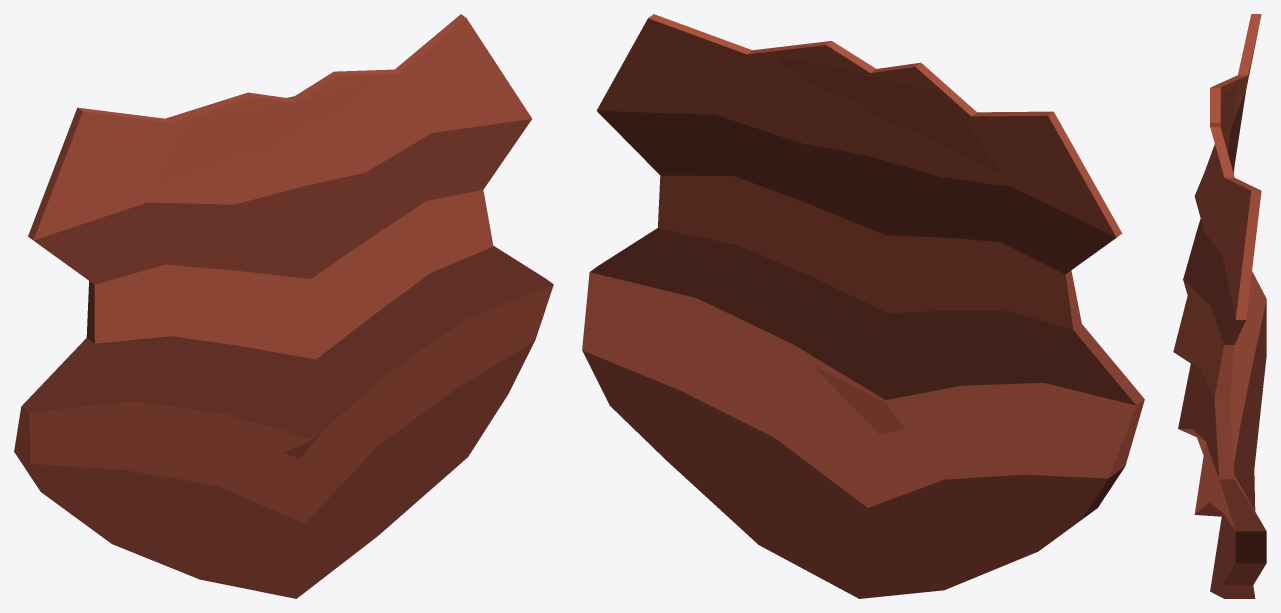
File: Shield_4_Red.fbx
3 renders of one model, left to right at view 1: azimuth 30°, elevation 25°; view 2: azimuth 150°, elevation 25°; view 3: azimuth 270°, elevation 25°, orthographic. The views are drawn at different scales.
Visible parts, largest first — view 1: Shield_4_Red_Part_1, Shield_4_Red_Part_2; view 2: Shield_4_Red_Part_1, Shield_4_Red_Part_2; view 3: Shield_4_Red_Part_1, Shield_4_Red_Part_2.
Boxes of the visible parts, <box> form: Shield_4_Red_Part_1: <box>14,14,553,523</box>; Shield_4_Red_Part_2: <box>14,119,553,598</box>; Shield_4_Red_Part_1: <box>582,14,1144,507</box>; Shield_4_Red_Part_2: <box>582,111,1144,598</box>; Shield_4_Red_Part_1: <box>1173,14,1266,531</box>; Shield_4_Red_Part_2: <box>1177,91,1266,598</box>.
Size of the model in its own units: 97.71 by 92.24 by 15.97.
